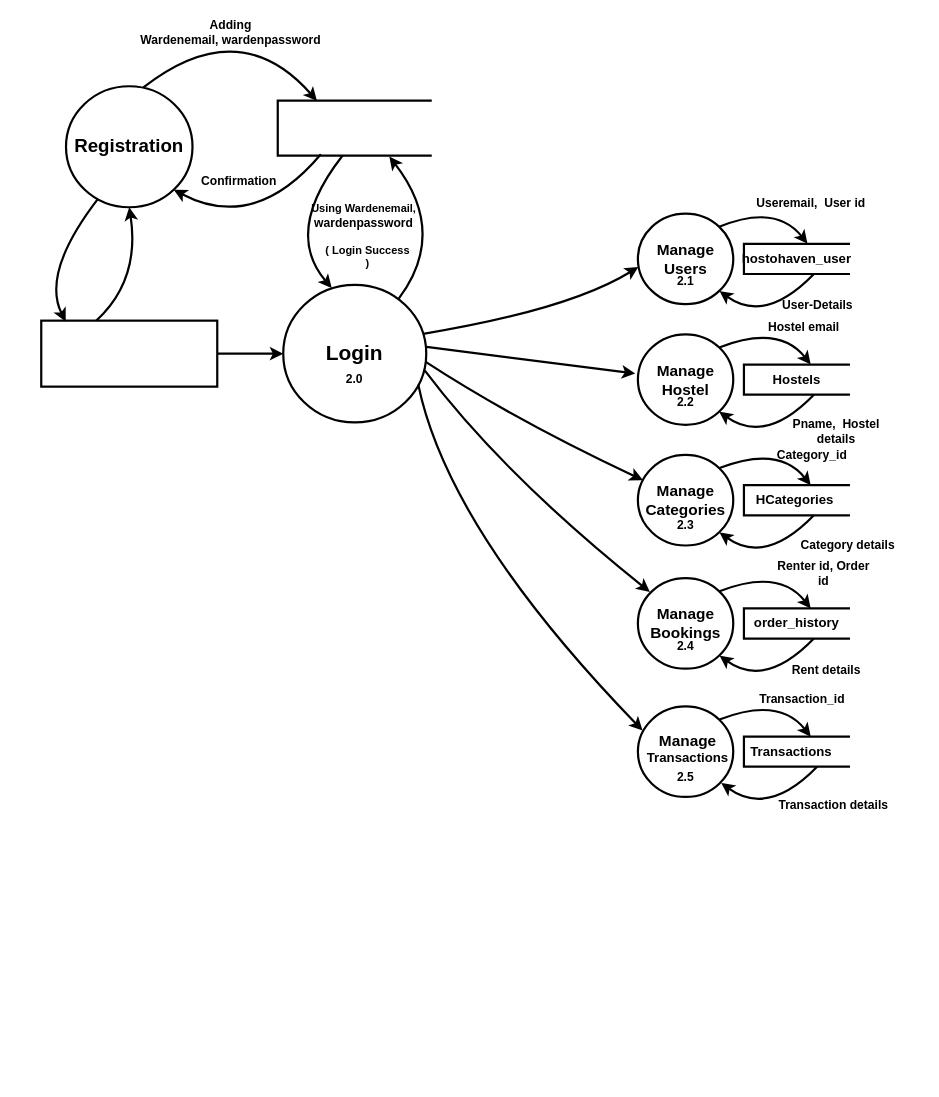
The diagram is 939 pixels wide and 1097 high, and some of its shapes have lost their labels. Each missing label, with the centre of its shape:
"Hostel_wardens" goes at point (354, 127).
"WARDEN" goes at point (129, 353).
